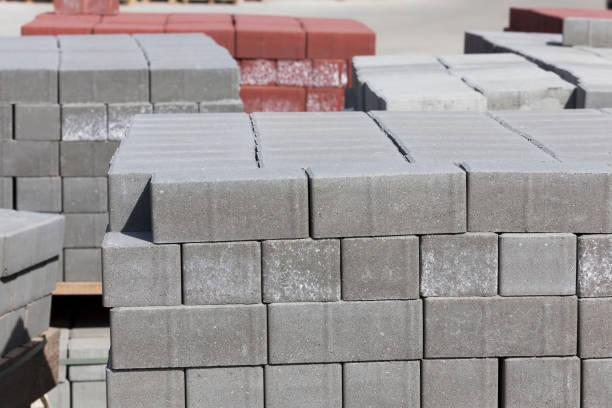Bricks: (263, 294, 430, 366), (147, 172, 312, 242), (418, 295, 584, 362), (111, 303, 270, 371), (460, 167, 611, 238), (311, 172, 467, 234), (335, 231, 425, 307), (499, 234, 585, 307), (257, 234, 342, 303), (421, 233, 505, 302), (182, 241, 264, 311), (105, 243, 186, 310), (421, 356, 514, 407), (496, 357, 583, 407), (261, 362, 347, 407), (185, 361, 267, 407), (337, 362, 419, 407), (58, 68, 152, 107), (145, 67, 237, 106), (102, 365, 186, 407), (1, 62, 65, 110), (0, 140, 62, 180), (578, 233, 611, 305), (577, 299, 611, 364), (12, 106, 65, 145), (59, 175, 116, 211), (64, 208, 117, 245), (59, 240, 103, 284), (59, 142, 115, 175), (15, 177, 68, 211), (575, 360, 611, 407), (65, 105, 112, 140)
